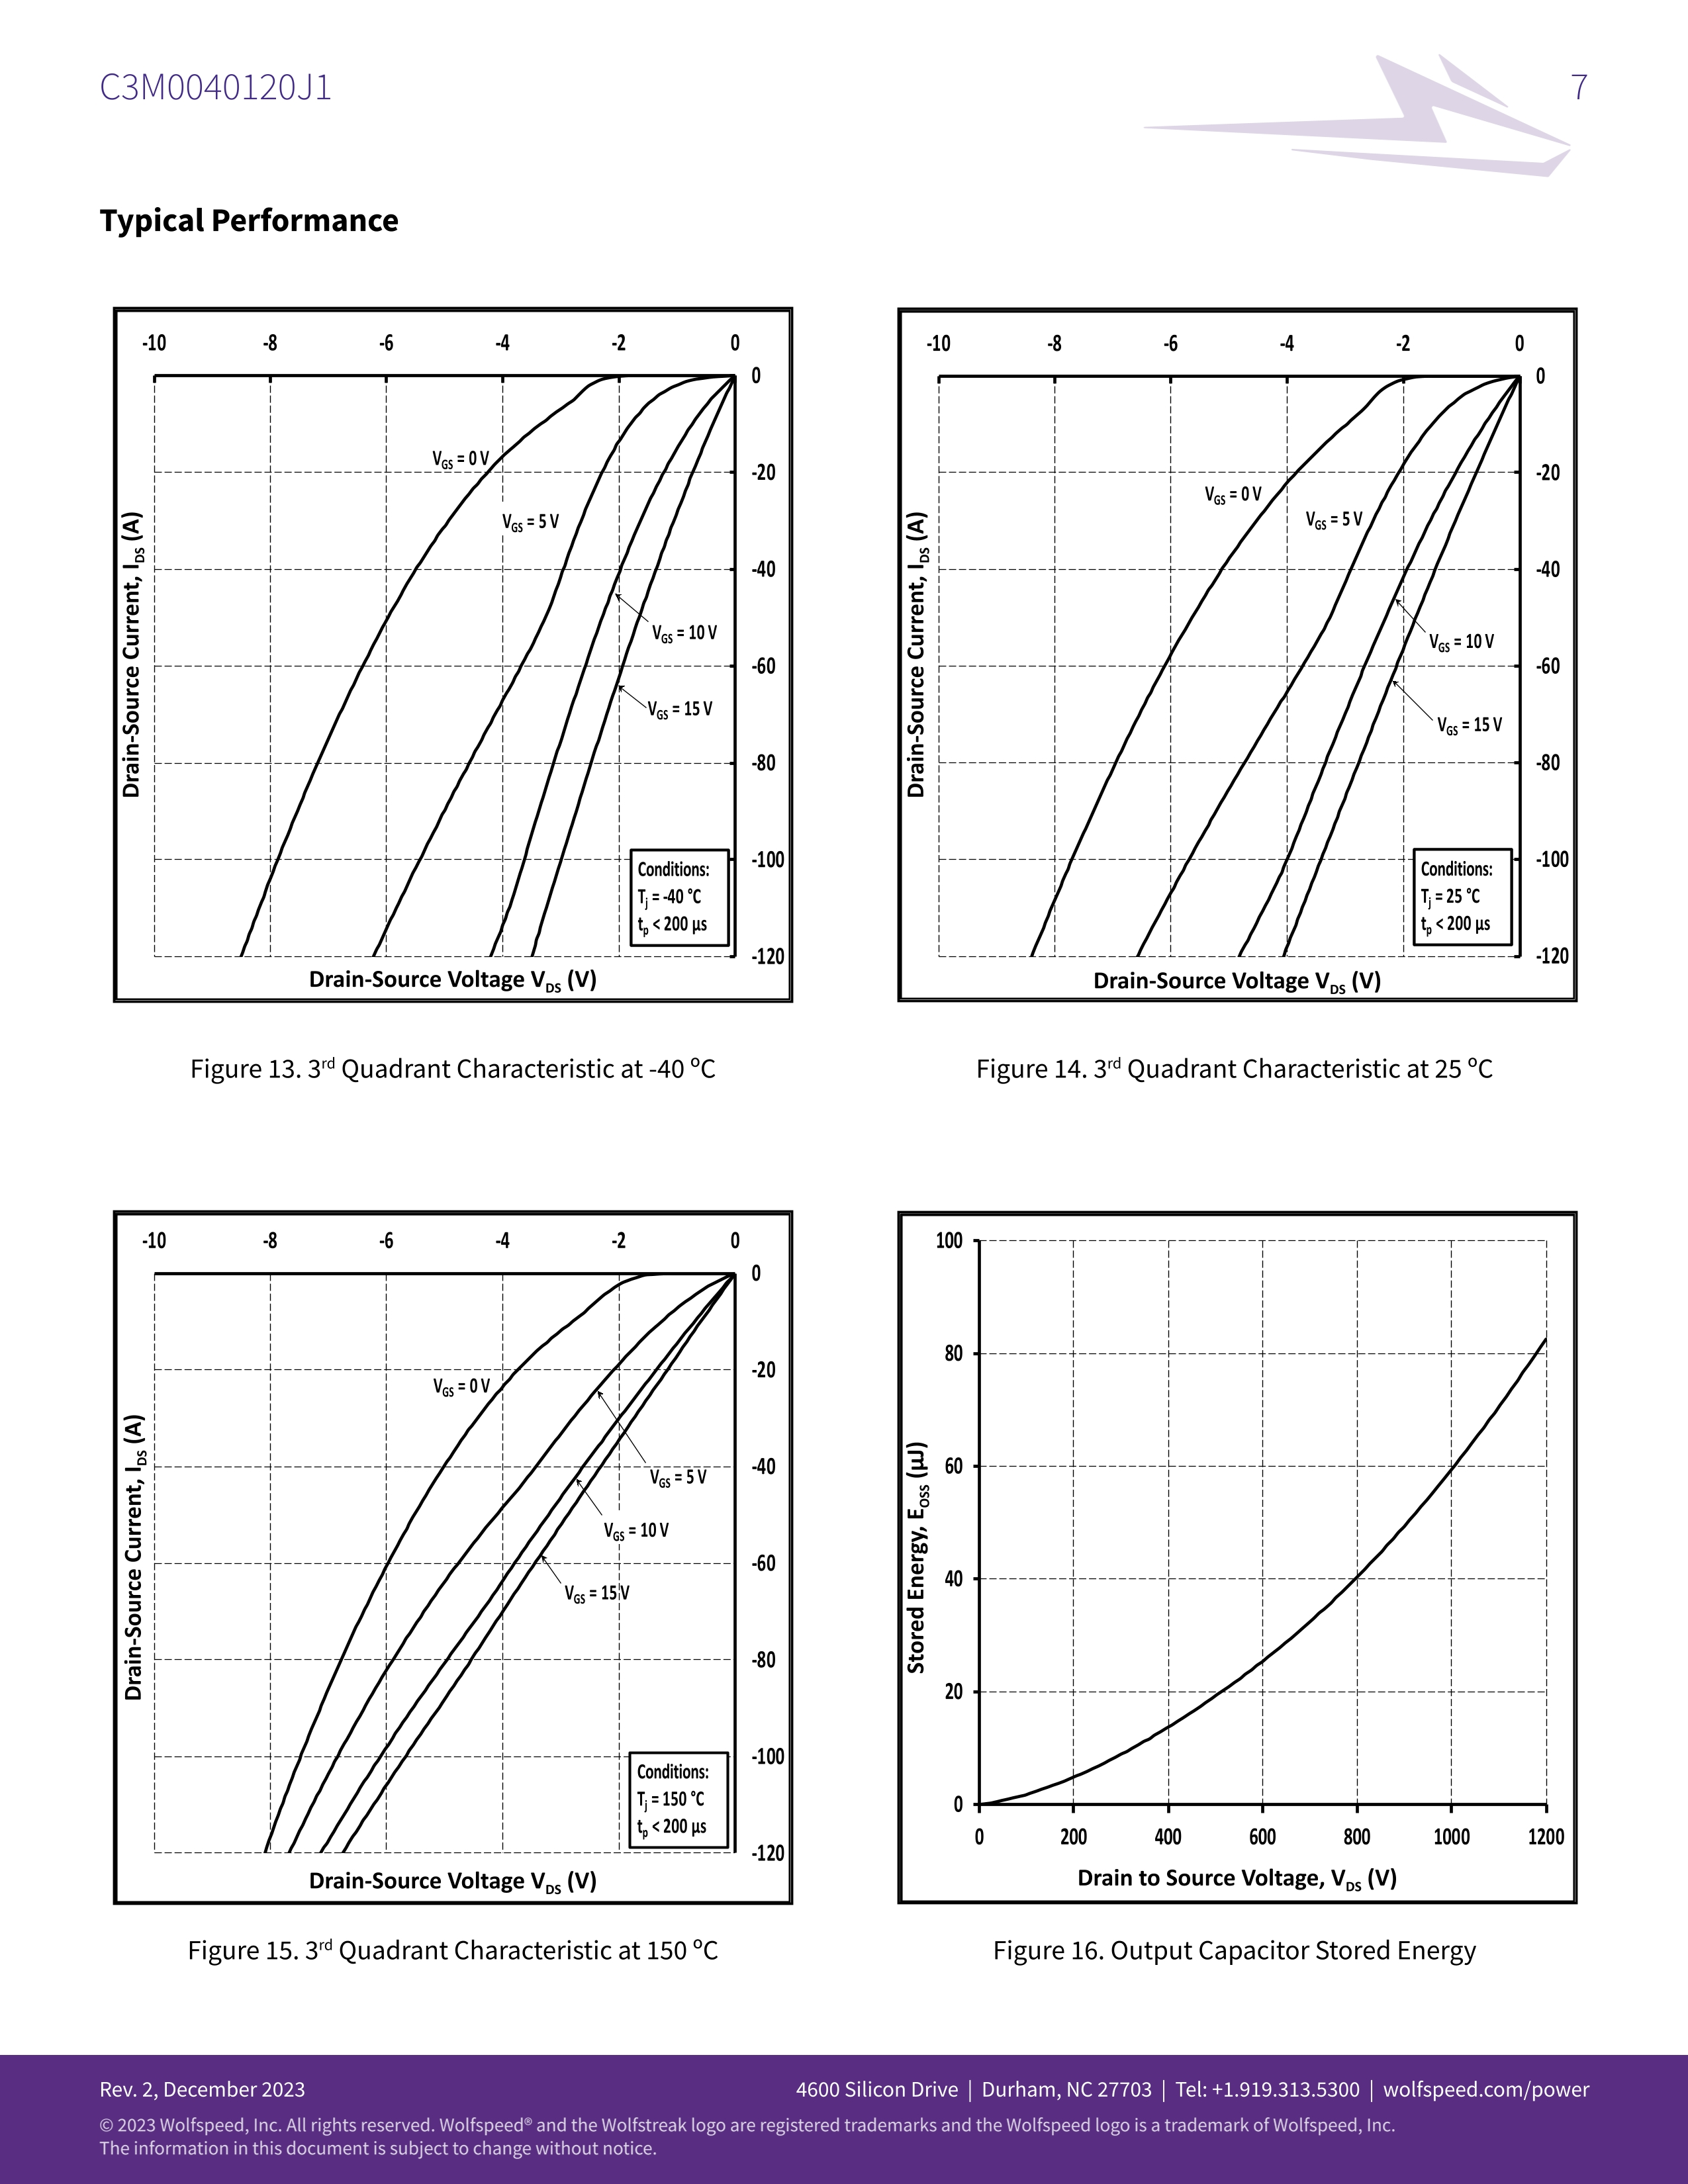diagram: (884, 289, 1605, 1188), (95, 291, 808, 1125), (101, 1196, 818, 2019), (886, 1191, 1599, 1982)
